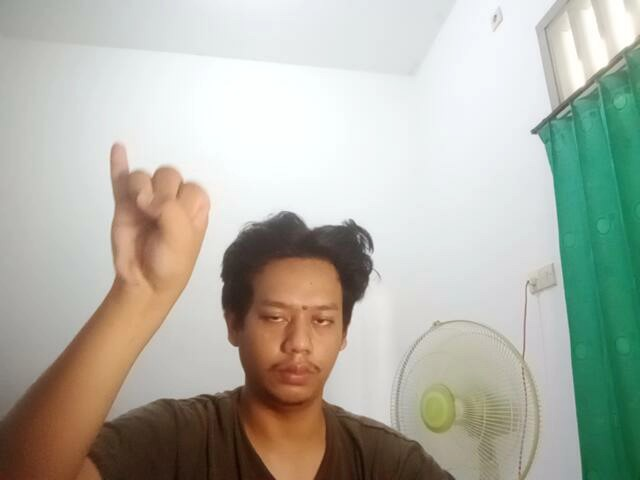I: (89, 134, 222, 297)
